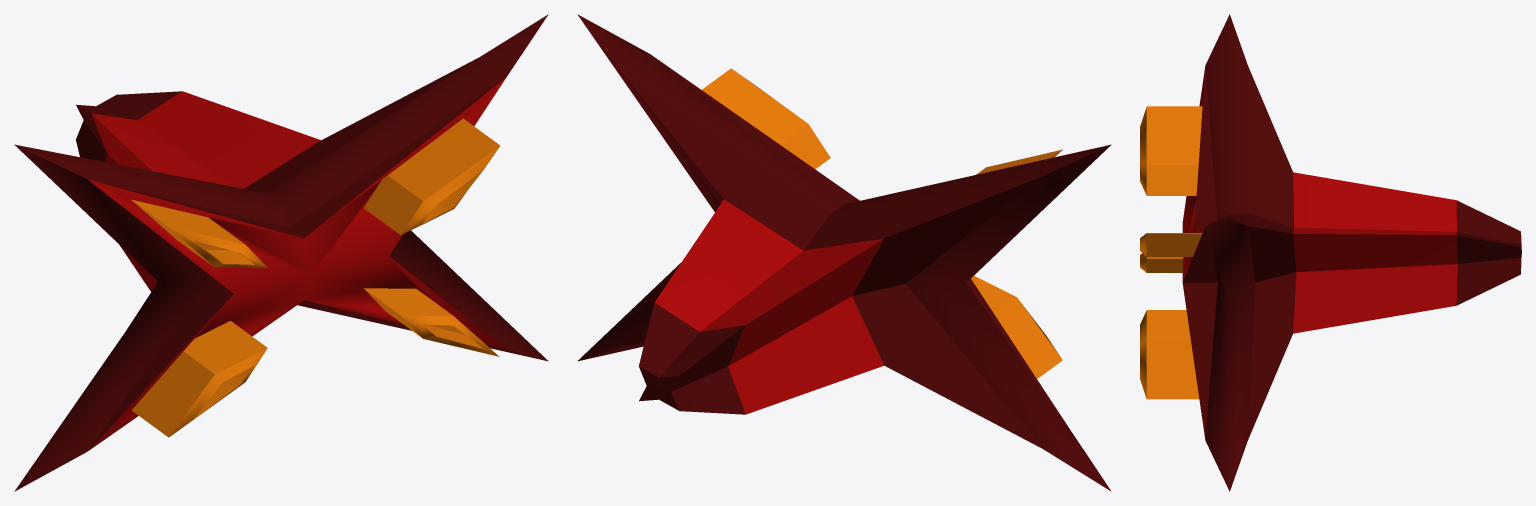
Rendered from Enemy_Spaceship_v2.0.fbx.
The picture shows the model from 3 angles, left to right: view 1: azimuth 30°, elevation 25°; view 2: azimuth 150°, elevation 25°; view 3: azimuth 270°, elevation 25°; orthographic projection. The views are drawn at different scales.
Visible parts, largest first — view 1: pCube1; view 2: pCube1; view 3: pCube1.
Part boxes in pixels (left/top/right/bottom): pCube1: left=14, top=14, right=548, bottom=491; pCube1: left=577, top=14, right=1111, bottom=491; pCube1: left=1140, top=14, right=1521, bottom=491.
Bounding box in the file's own units: 0.9919 × 0.6158 × 0.7808.
